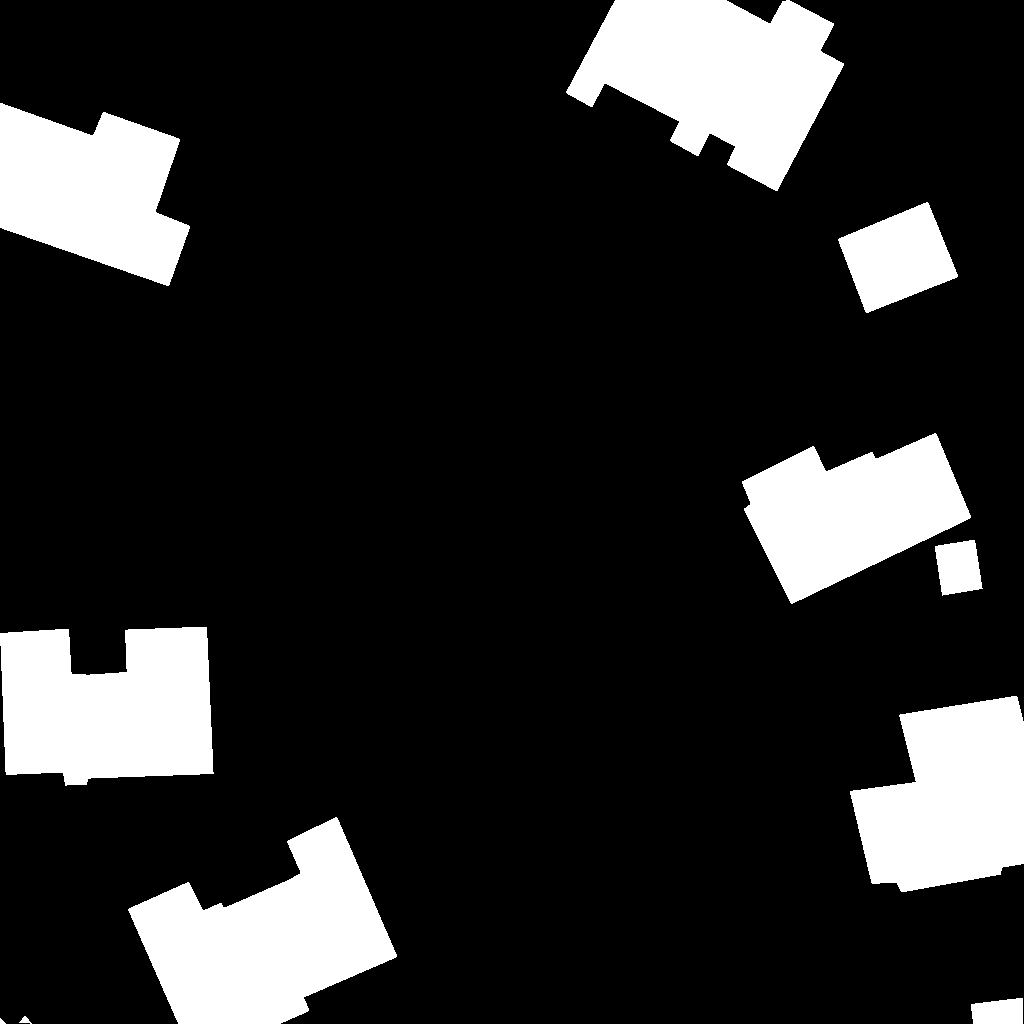building: (128, 817, 398, 1024), (566, 0, 845, 192), (742, 433, 972, 605), (0, 103, 191, 287), (850, 696, 1024, 893), (0, 627, 214, 786), (838, 202, 959, 314), (935, 540, 983, 596), (971, 998, 1024, 1024), (0, 1016, 33, 1024)
